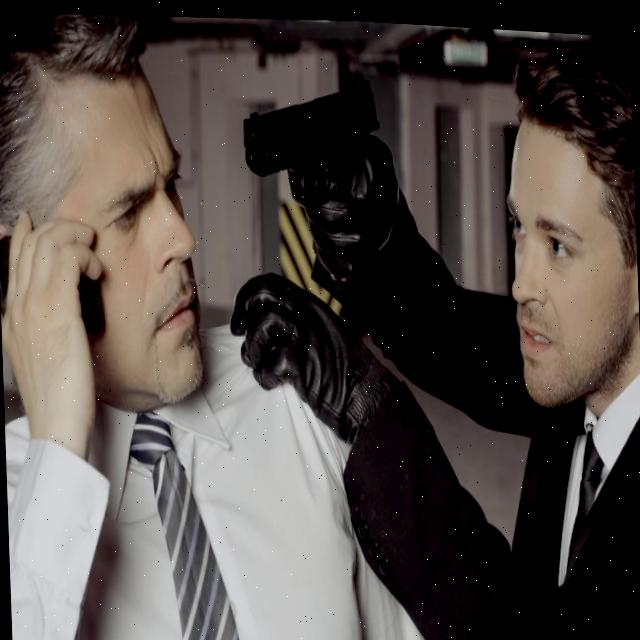pistol: (238, 55, 386, 207)
